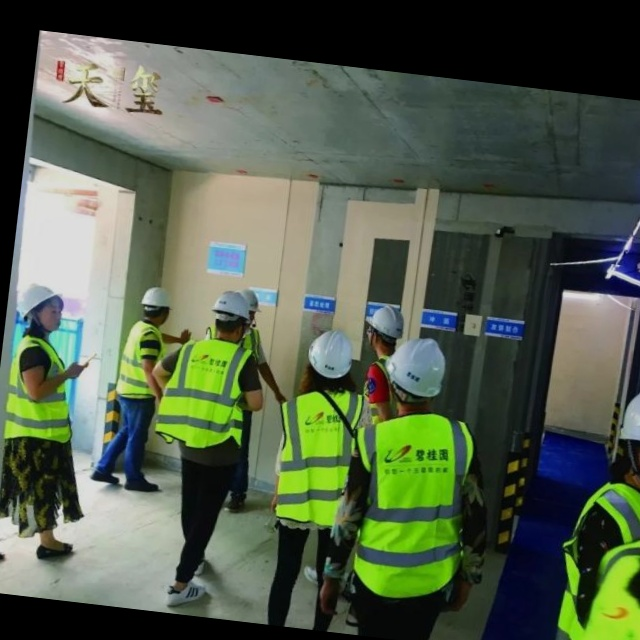Con_Chaleco: (338, 408, 476, 594), (267, 385, 377, 539), (166, 338, 254, 454), (0, 336, 84, 447), (305, 326, 358, 386), (138, 285, 176, 325)
